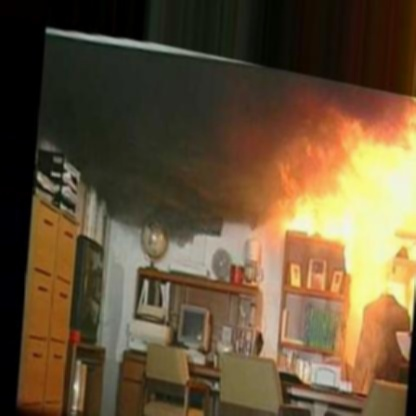fire: (258, 83, 416, 331)
